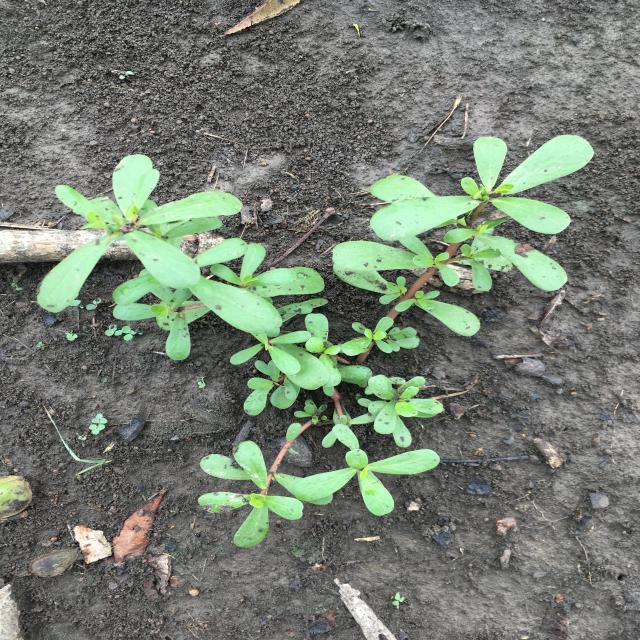Purslane: (36, 135, 594, 548)
